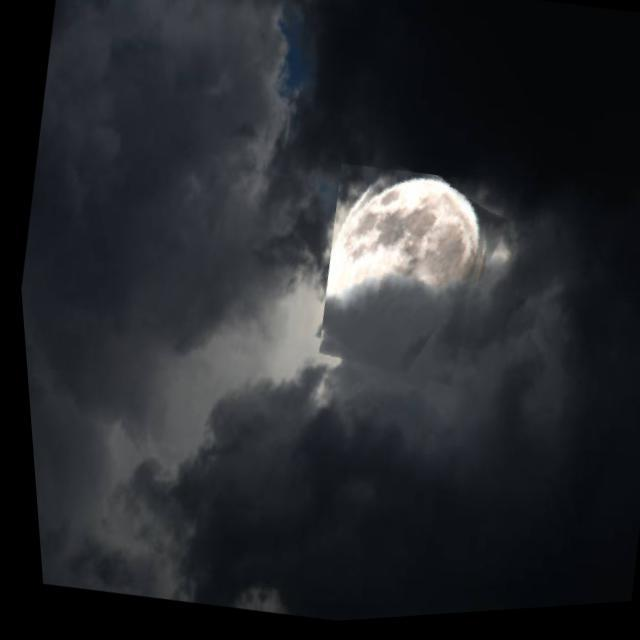moon: (298, 160, 508, 403)
